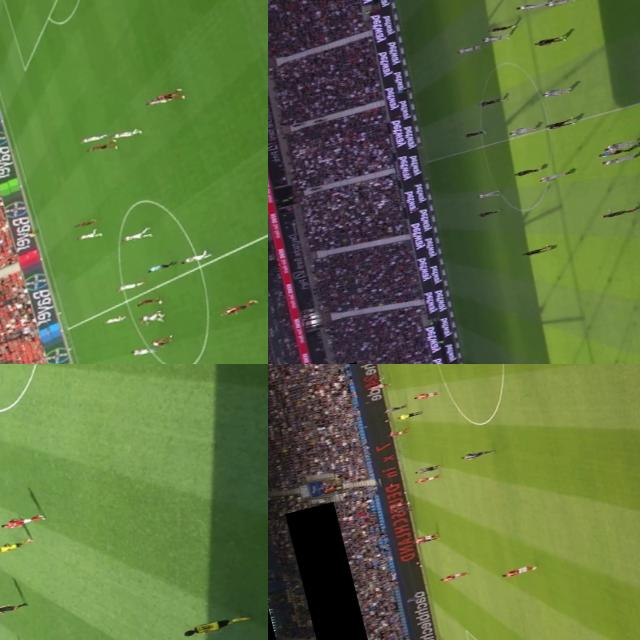ball: (154, 300, 164, 306), (400, 489, 409, 495)
player: (178, 612, 248, 639), (0, 510, 48, 533), (212, 300, 260, 319), (597, 134, 638, 154), (529, 30, 570, 50), (173, 248, 213, 267), (598, 204, 638, 222), (498, 562, 539, 579), (508, 0, 548, 17), (512, 164, 548, 182), (518, 244, 558, 260), (457, 447, 497, 462), (478, 30, 513, 47), (0, 536, 33, 554), (600, 152, 637, 168), (542, 115, 575, 132), (504, 123, 536, 140), (536, 85, 572, 100), (436, 569, 472, 584), (74, 132, 110, 146), (145, 90, 181, 104), (410, 388, 443, 403), (452, 42, 482, 58), (84, 140, 118, 154), (142, 94, 174, 108), (536, 170, 564, 186), (109, 128, 138, 143), (120, 230, 150, 244), (484, 23, 514, 37), (544, 0, 582, 11), (75, 228, 104, 242), (475, 94, 504, 108), (471, 208, 500, 222), (363, 379, 392, 393), (412, 462, 441, 476), (112, 280, 142, 293), (412, 472, 442, 485), (129, 345, 156, 359), (461, 126, 488, 140), (473, 188, 500, 202), (133, 294, 162, 307), (381, 402, 407, 416), (100, 314, 129, 326), (146, 335, 170, 349), (70, 219, 96, 231), (136, 312, 162, 324), (385, 426, 410, 438), (412, 532, 437, 544), (390, 505, 414, 516), (411, 536, 434, 547), (386, 500, 411, 510)
